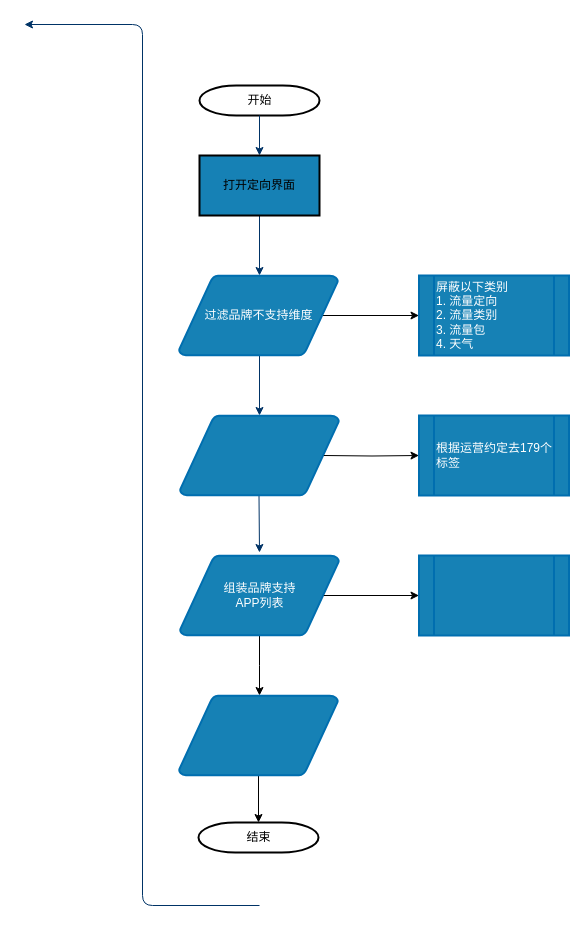
Image size: 587x931. Some labels were removed from this diagram. The shapes that lost their labels are listed below. From the top down, each one's box as (x1, y1, x2, y2) in pixels, then its label:
(178, 414, 340, 496): 组装品牌支持 标签列表
(418, 554, 570, 636): 根据运营算法约定,取262appID
(178, 694, 338, 776): 返回元数据
